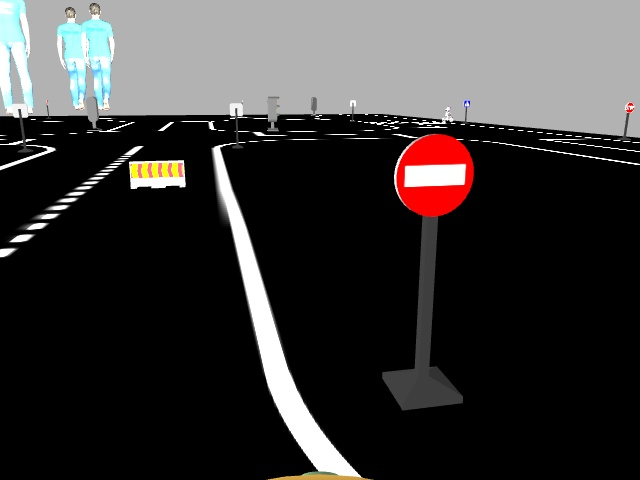ClosedRoadStand: (127, 163, 183, 184)
NoEntry: (394, 132, 472, 215)
